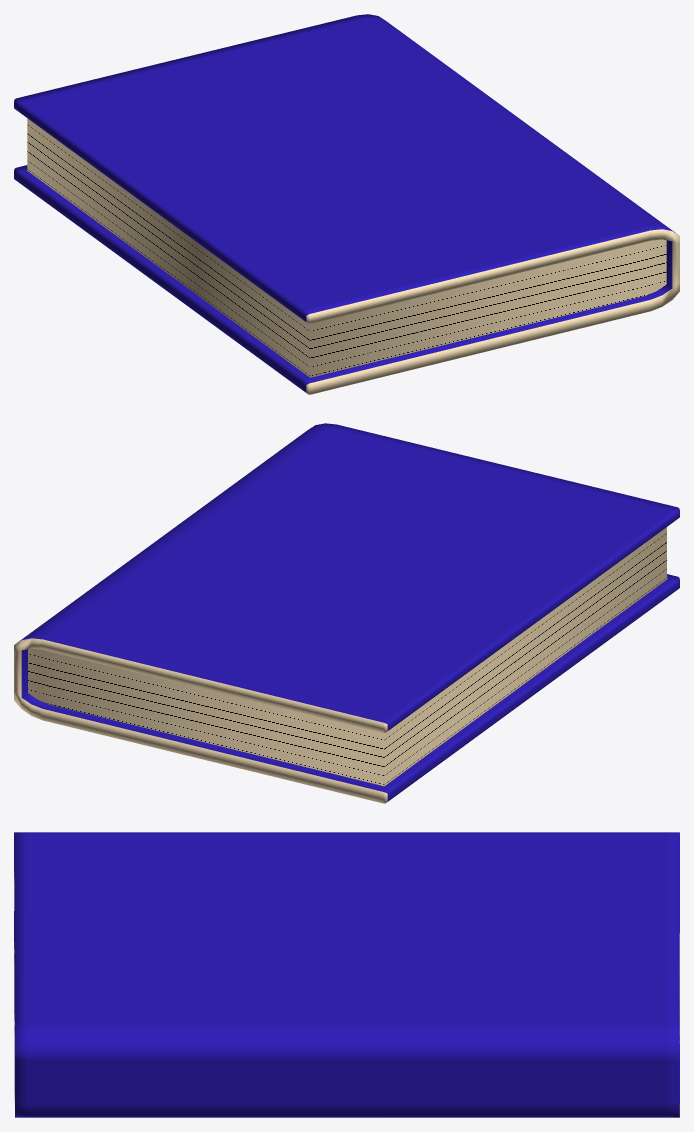
File: book-indigo.fbx
The picture shows the model from 3 angles, top to bottom: view 1: azimuth 30°, elevation 25°; view 2: azimuth 150°, elevation 25°; view 3: azimuth 270°, elevation 25°; orthographic projection. The views are drawn at different scales.
Parts seen in each view (by area): view 1: book_indigo; view 2: book_indigo; view 3: book_indigo.
Boxes of the visible parts, x1=… form: book_indigo: x1=14, y1=14, x2=679, y2=394; book_indigo: x1=14, y1=423, x2=679, y2=803; book_indigo: x1=14, y1=832, x2=679, y2=1117.
Bounding box in the file's own units: 8.66 × 1.79 × 11.81.
1 material, 1 textured.
